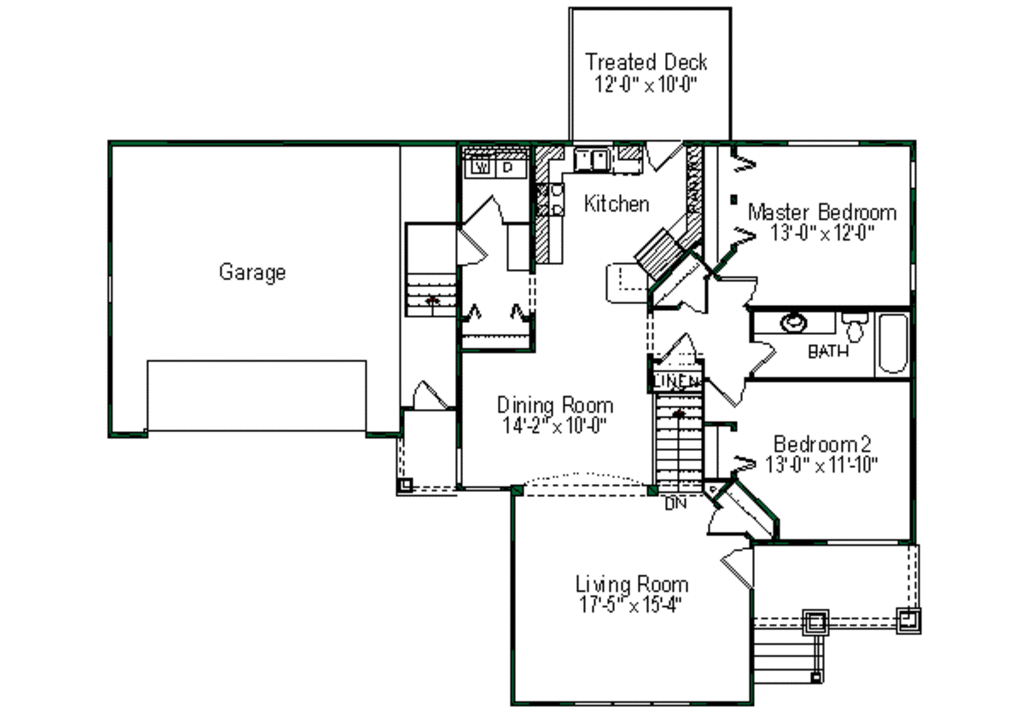door: (716, 543, 758, 598), (695, 503, 749, 543), (697, 374, 745, 409), (654, 331, 706, 362), (409, 379, 452, 416), (451, 226, 488, 266), (741, 335, 775, 373), (463, 197, 509, 224), (712, 278, 760, 303), (680, 282, 714, 316)
large_sink: (841, 312, 872, 352)
small_sink: (757, 309, 830, 334)
stairs: (653, 369, 706, 500)
tub: (874, 314, 910, 383)
twin_sink: (567, 146, 619, 171)
